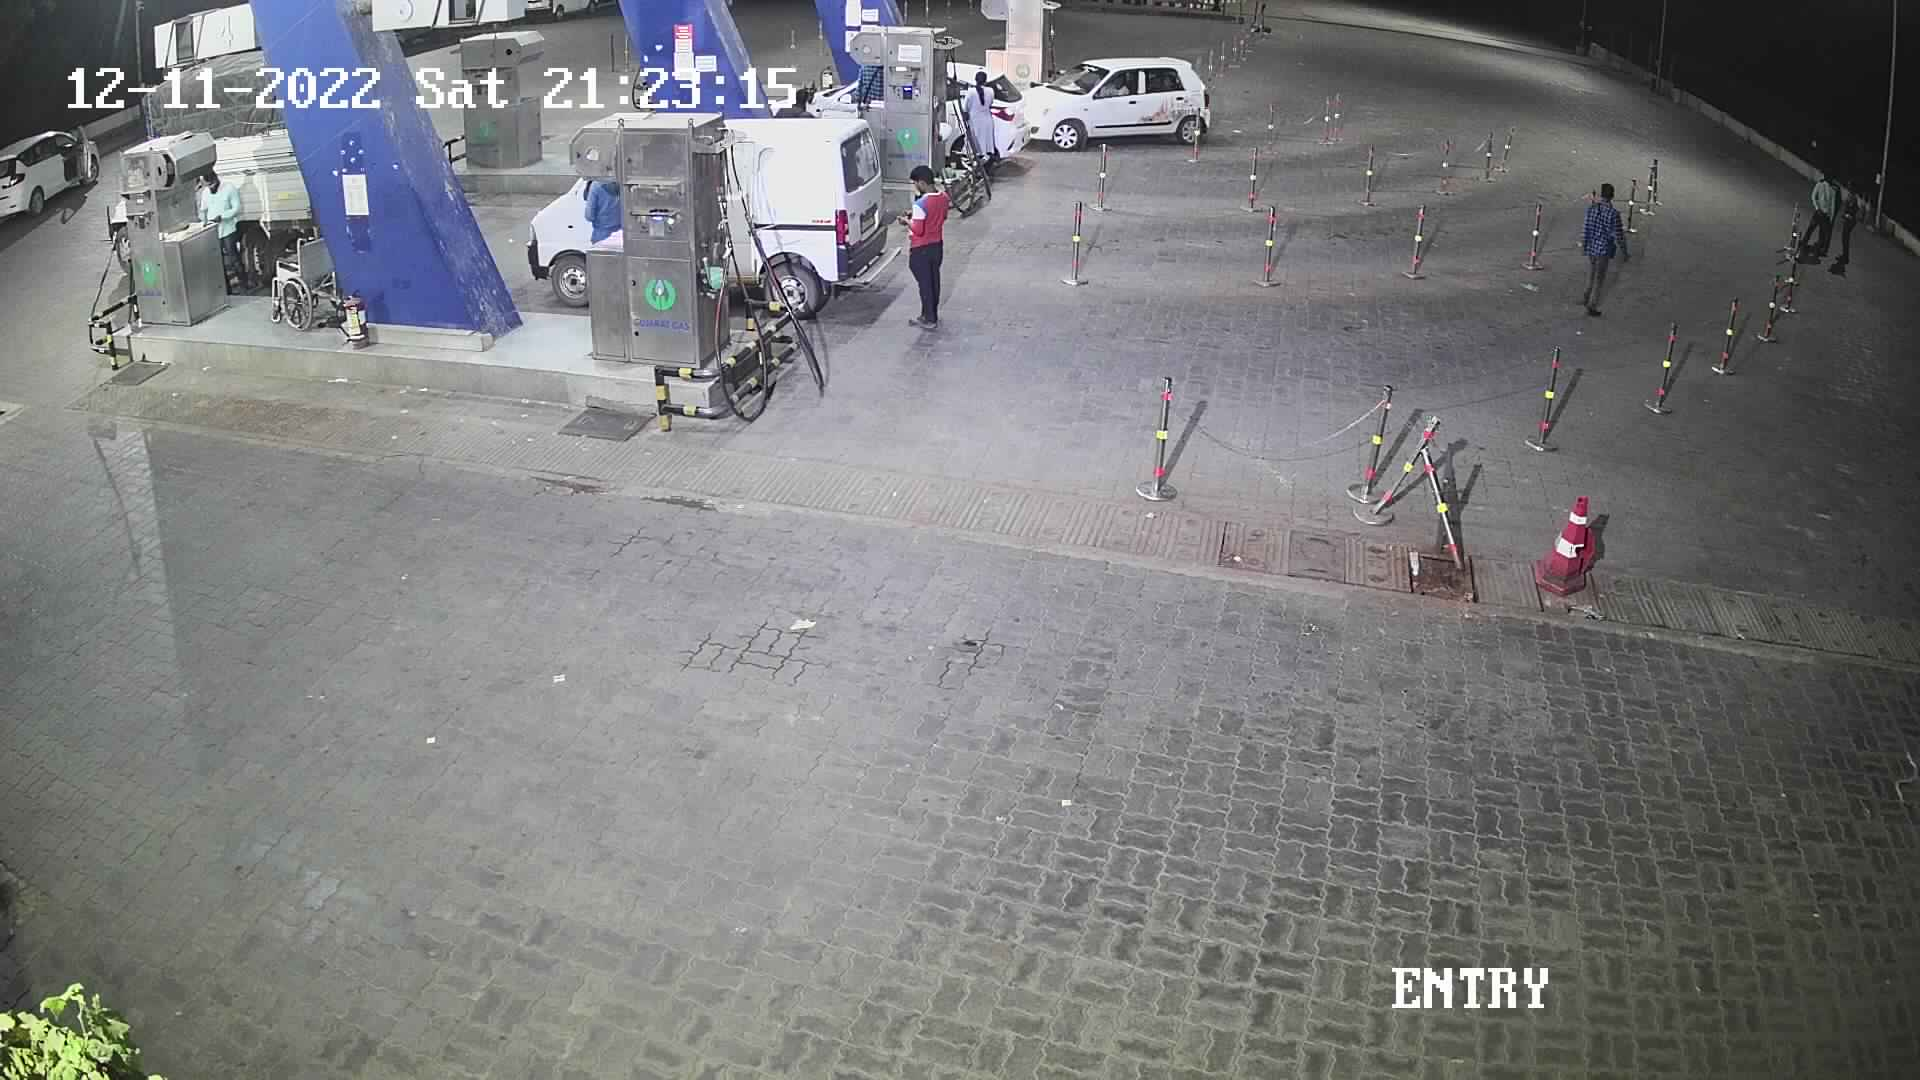Car: (526, 100, 910, 328), (1010, 38, 1224, 160), (943, 51, 1044, 187), (0, 115, 105, 241)
HMV: (90, 40, 336, 307)
